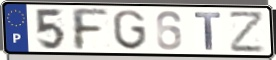5: (33, 7, 67, 51)
6: (155, 10, 183, 52)
F: (68, 7, 111, 52)
G: (111, 9, 149, 52)
T: (192, 12, 222, 52)
Z: (227, 10, 266, 54)
